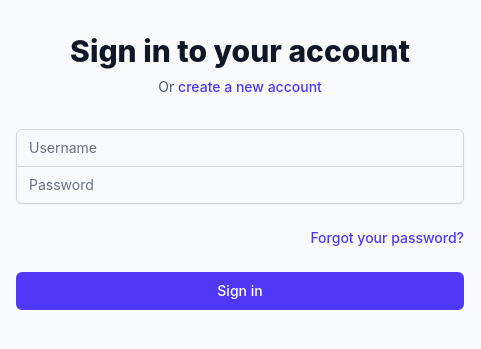
Test: LoginView › error display › displays error message from API response.data.detail
The width and height of the screenshot is (481, 349).
Type "wronguser" into the field with id "username" at (240, 148), box [16,128,464,166]
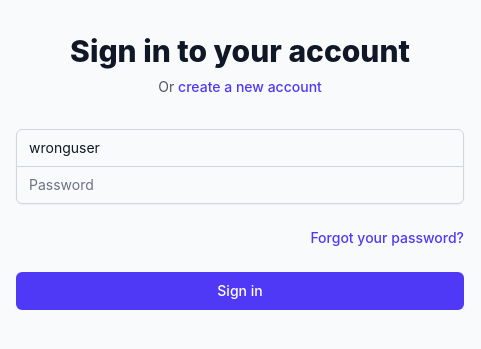
Type "wrongpass" into the password field with placeholder "Password" at (240, 184), box [16,166,464,204]
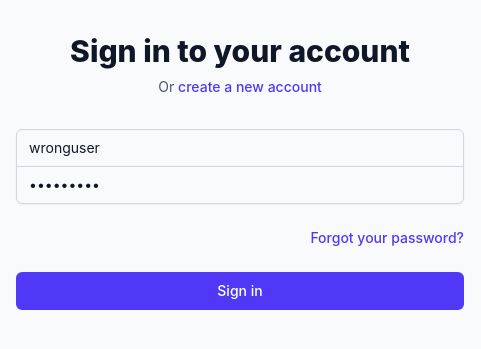
Submit the form, box [16,128,464,310]
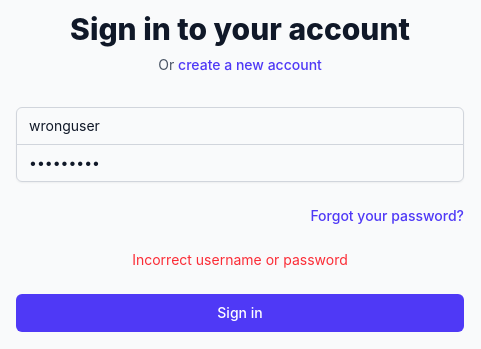
Expected: the text "Incorrect username or password" is shown, [132,250,348,268]
